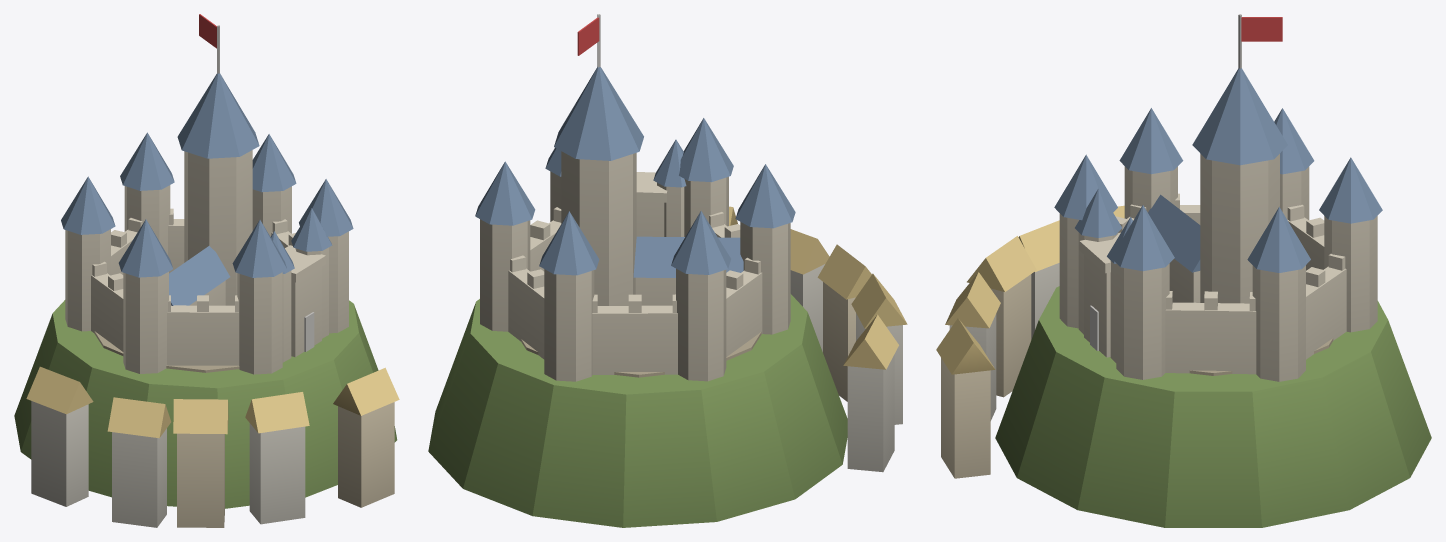
File: castle_west_b.glb
3 renders of one model, left to right at view 1: azimuth 30°, elevation 25°; view 2: azimuth 150°, elevation 25°; view 3: azimuth 270°, elevation 25°, orthographic. The views are drawn at different scales.
Parts seen in each view (by area): view 1: castle_west_b; view 2: castle_west_b; view 3: castle_west_b.
Part boxes in pixels (box(x1,y1,x2,y2)): castle_west_b: box(14, 14, 399, 527); castle_west_b: box(428, 14, 907, 527); castle_west_b: box(936, 14, 1431, 527).
Bounding box in the file's own units: 1.79 × 1.81 × 1.86.
